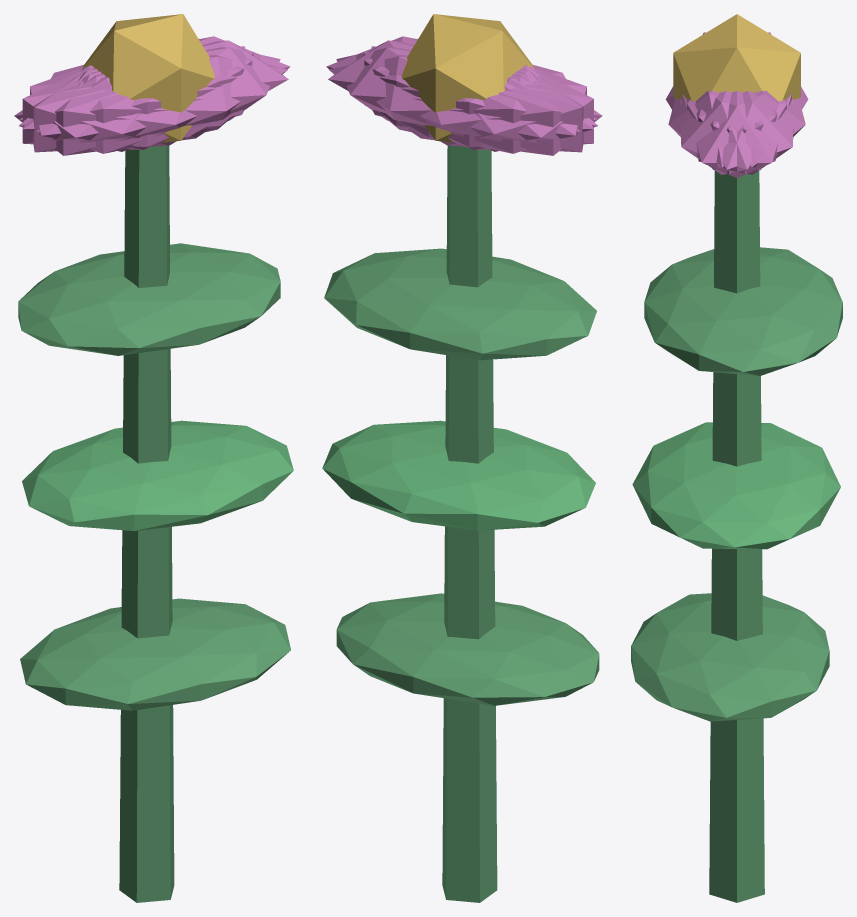
Rendered from ulmus-laevis.glb.
3 renders of one model, left to right at view 1: azimuth 30°, elevation 25°; view 2: azimuth 150°, elevation 25°; view 3: azimuth 270°, elevation 25°, orthographic.
Parts seen in each view (by area): view 1: stem, leaf0, leaf1, leaf2, center, petal1, petal6, petal2, petal5, petal7, petal0, petal4 (+2 smaller); view 2: stem, leaf2, leaf1, leaf0, center, petal8, petal3, petal7, petal4, petal2, petal0, petal5 (+2 smaller); view 3: stem, leaf1, leaf2, leaf0, center, petal0, petal4, petal5, petal8, petal1.
Boxes of the visible parts, x1,y1,x2,y2 form: stem: (119, 145, 174, 902); leaf0: (20, 598, 290, 710); leaf1: (22, 420, 293, 530); leaf2: (18, 243, 280, 355); center: (82, 14, 214, 142); petal1: (18, 55, 287, 153); petal6: (14, 67, 209, 155); petal2: (33, 46, 245, 152); petal5: (37, 47, 280, 146); petal7: (22, 52, 253, 149); petal0: (82, 40, 288, 137); petal4: (19, 36, 290, 129); stem: (442, 145, 497, 902); leaf2: (324, 248, 596, 360); leaf1: (322, 420, 595, 530); leaf0: (336, 593, 599, 705); center: (401, 14, 534, 142); petal8: (328, 55, 597, 153); petal3: (407, 67, 602, 155); petal7: (371, 46, 583, 152); petal4: (336, 47, 579, 146); petal2: (363, 52, 593, 149); petal0: (328, 40, 534, 137); petal5: (326, 36, 596, 129); stem: (709, 170, 764, 902); leaf1: (632, 422, 840, 549); leaf2: (644, 247, 842, 375); leaf0: (631, 593, 829, 721); center: (673, 14, 800, 101); petal0: (682, 91, 791, 177); petal4: (687, 91, 793, 174); petal5: (680, 91, 786, 174); petal8: (696, 90, 805, 167); petal1: (668, 90, 777, 167).
Size of the model in its own units: 0.1452 by 0.4546 by 0.1014.
